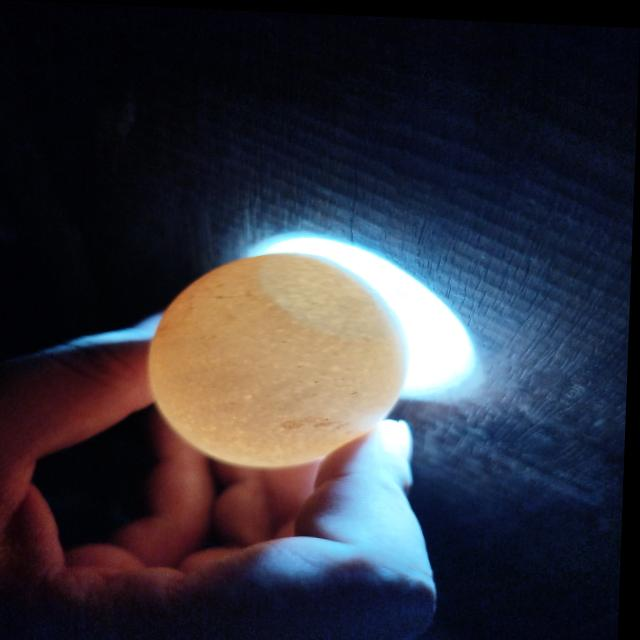Camara de Ar: (259, 250, 395, 336)
